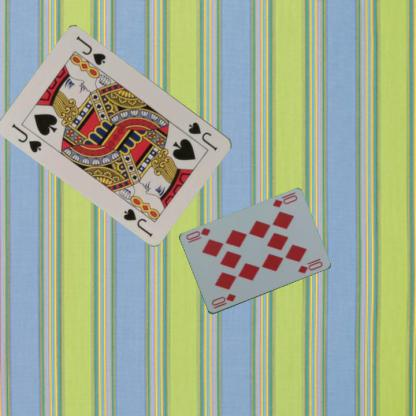10d: (208, 291, 237, 310), (270, 190, 298, 209)
Js: (186, 119, 219, 153), (9, 121, 43, 154)
